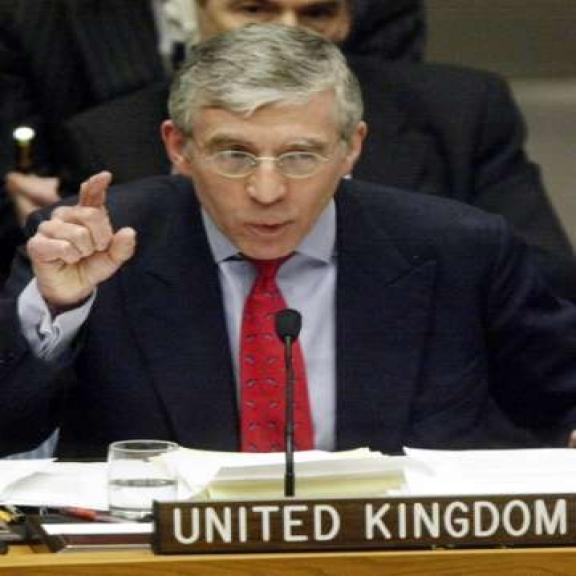face: (160, 96, 374, 266)
